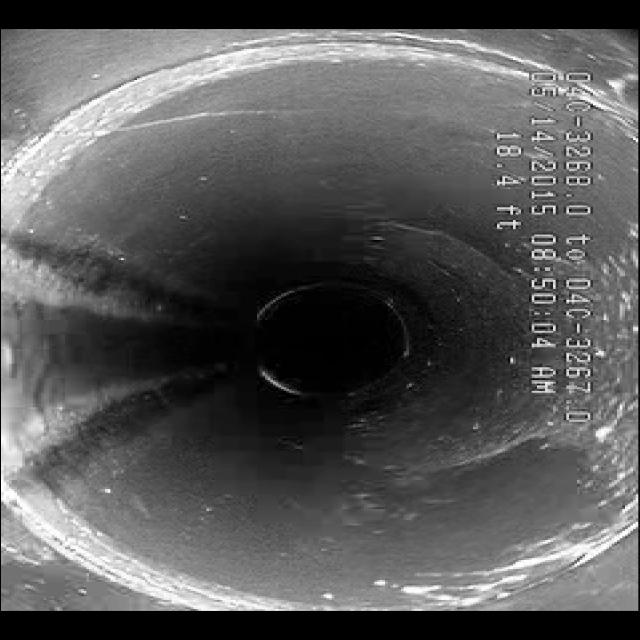Crack: (47, 81, 330, 160)
